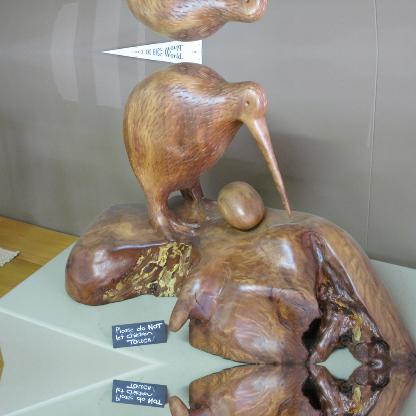Bird: (104, 80, 280, 236)
